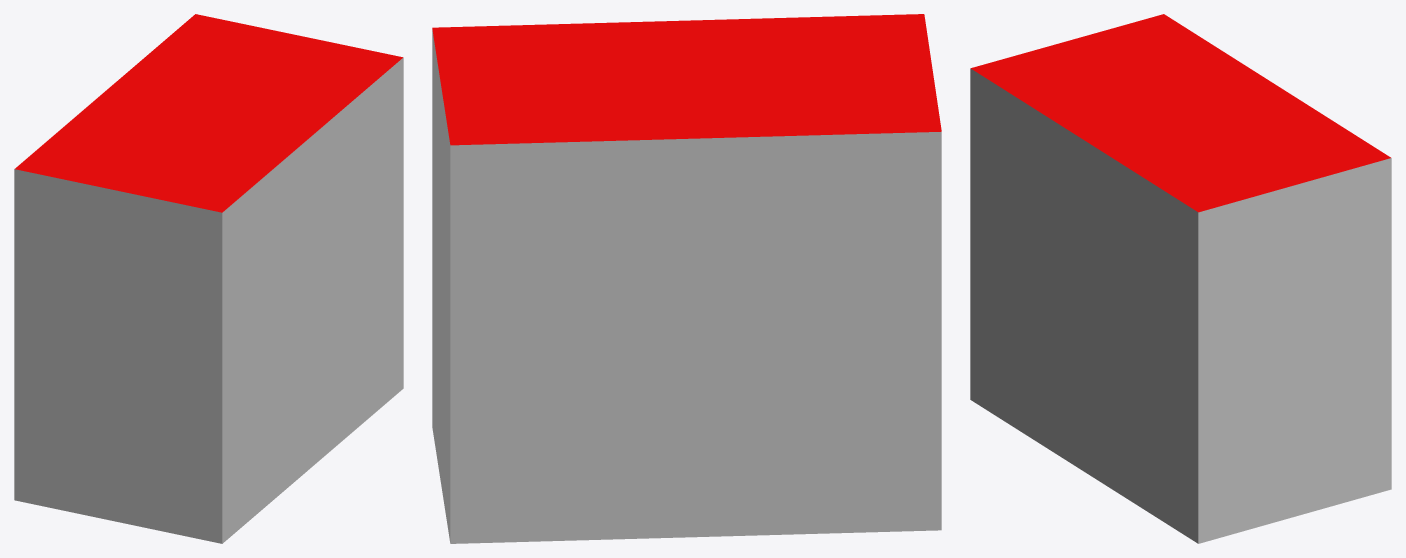
The picture shows the model from 3 angles, left to right: view 1: azimuth 30°, elevation 25°; view 2: azimuth 150°, elevation 25°; view 3: azimuth 270°, elevation 25°; orthographic projection. The views are drawn at different scales.
Bounding box in the file's own units: 10.68 × 8.32 × 9.58.
